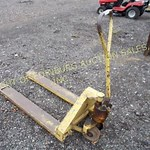Pallet Jack: (1, 9, 115, 145)
